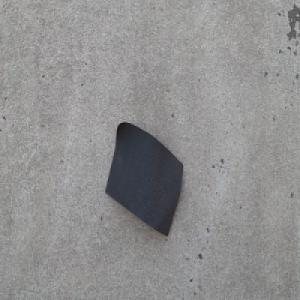PaintChip: (104, 120, 183, 237)
